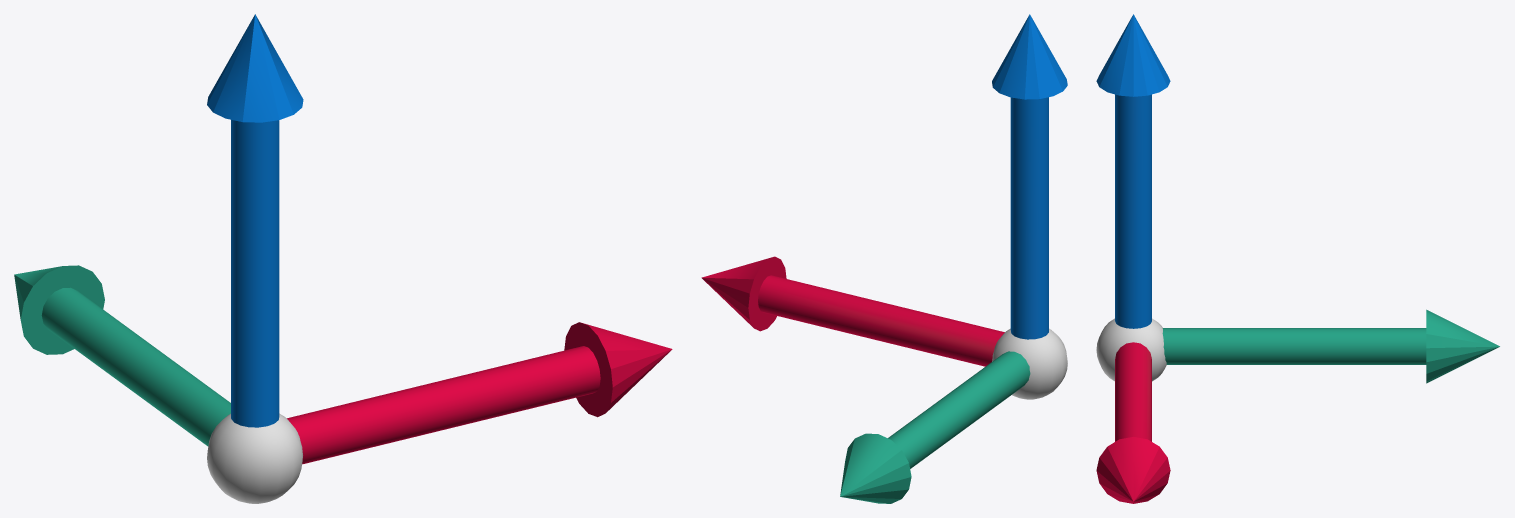
The model's file is Axis.obj.
The picture shows the model from 3 angles, left to right: view 1: azimuth 30°, elevation 25°; view 2: azimuth 150°, elevation 25°; view 3: azimuth 270°, elevation 25°; orthographic projection. The views are drawn at different scales.
Parts seen in each view (by area): view 1: Cylinder; view 2: Cylinder; view 3: Cylinder.
Boxes of the visible parts, bbox=[...] form: Cylinder: bbox=[14, 14, 672, 503]; Cylinder: bbox=[701, 14, 1067, 503]; Cylinder: bbox=[1096, 14, 1499, 503].
Bounding box in the file's own units: 2.72 × 2.75 × 2.72.
